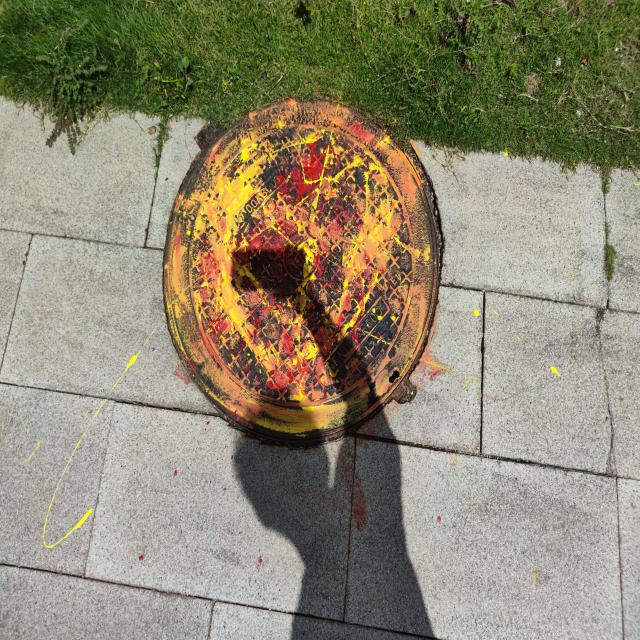Good: (156, 94, 452, 449)
